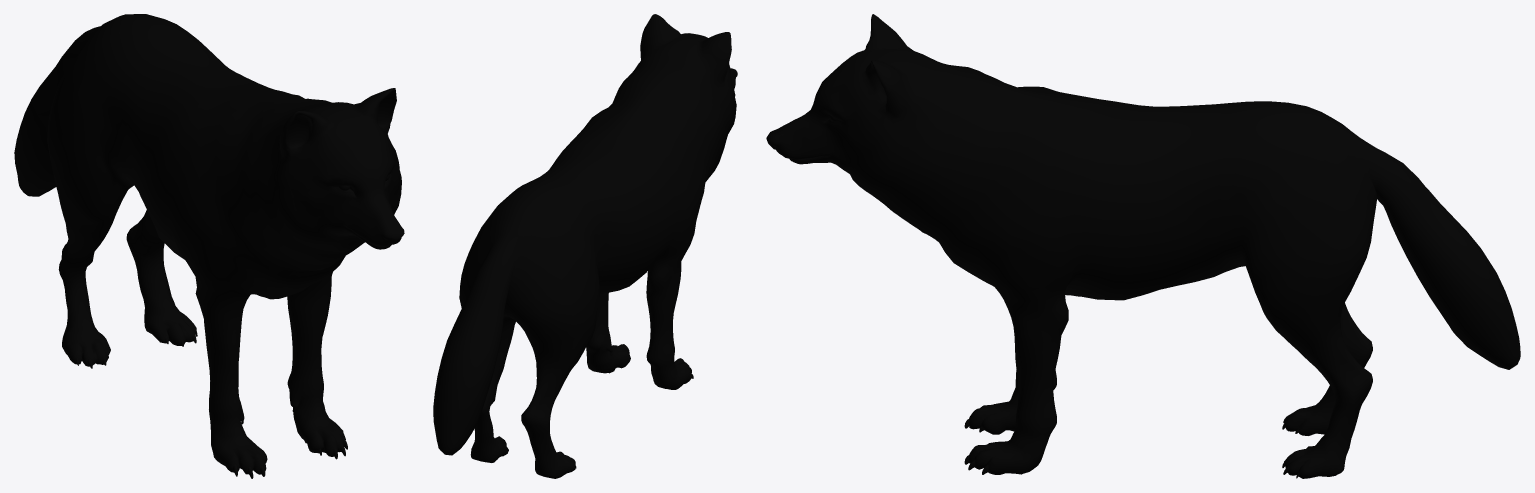
The picture shows the model from 3 angles, left to right: view 1: azimuth 30°, elevation 25°; view 2: azimuth 150°, elevation 25°; view 3: azimuth 270°, elevation 25°; orthographic projection. The views are drawn at different scales.
Visible parts, largest first — view 1: node_id4; view 2: node_id4; view 3: node_id4.
Part boxes in pixels (x1,y1,x2,y2): node_id4: (14, 14, 404, 478); node_id4: (433, 14, 737, 478); node_id4: (766, 14, 1520, 478).
Bounding box in the file's own units: 0.1118 × 0.2645 × 0.4376.
Materials: 1 (1 with a texture image).
